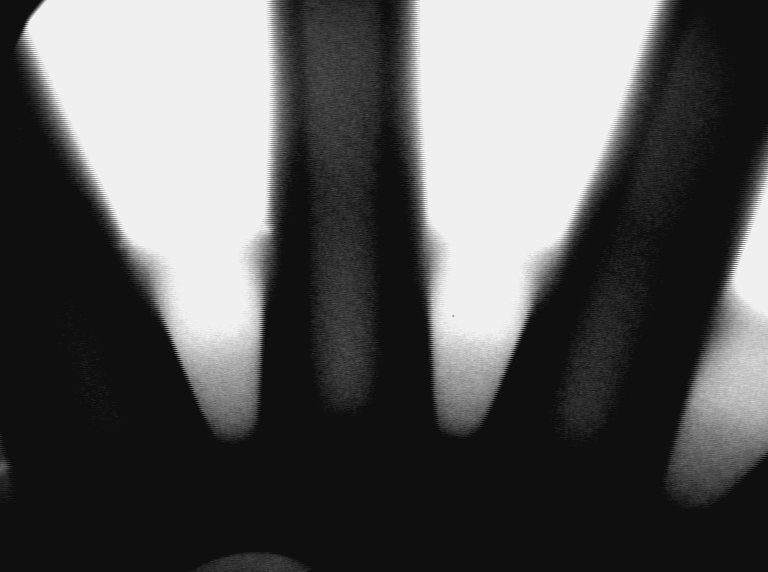defect: (261, 221, 279, 239)
